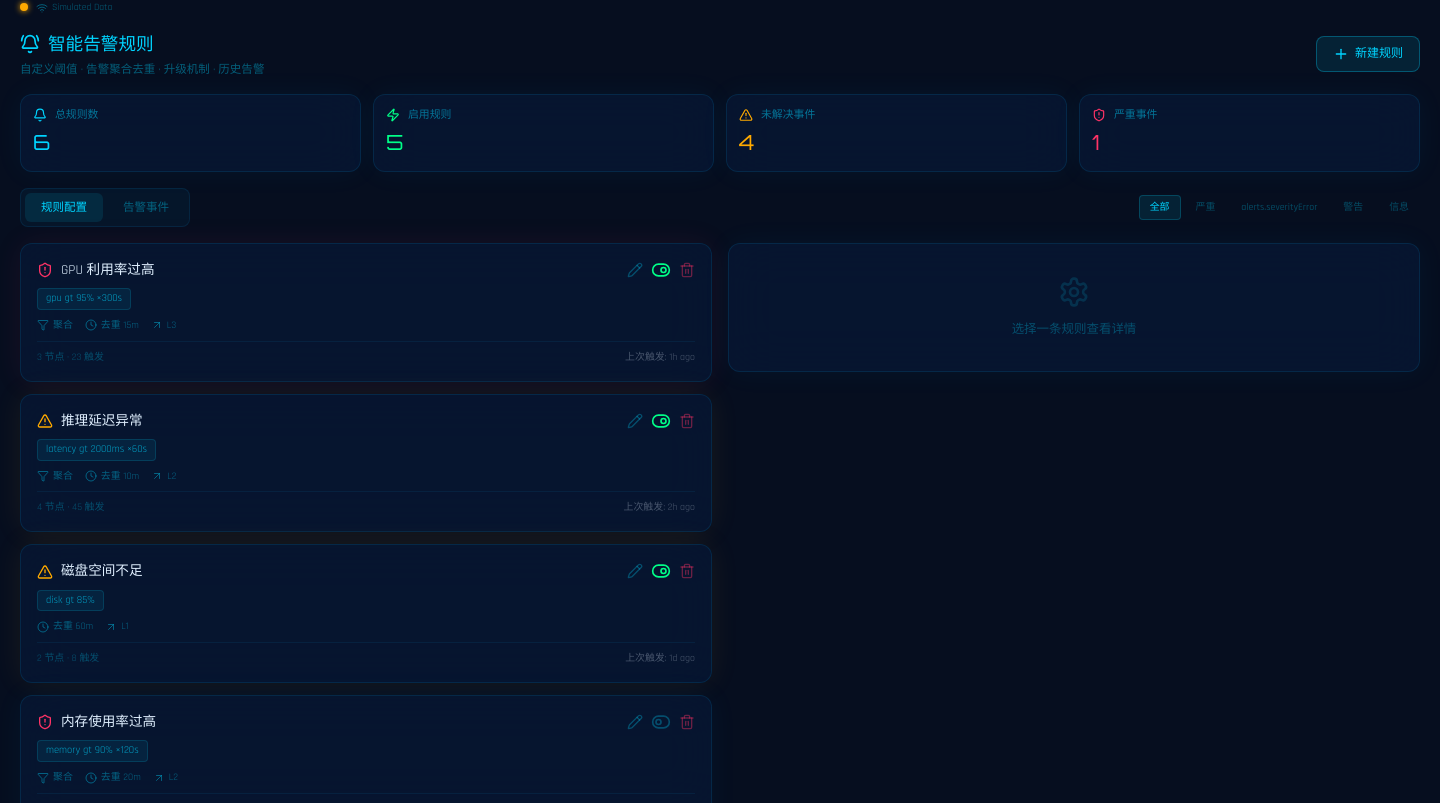
Test: AlertRulesPanel 扩展覆盖 › 编辑规则应打开编辑模式弹窗并回填名称
Step 1. Click the button with test id "edit-rule-rule-001" → (635, 270), box x1=627 y1=262 x2=643 y2=278
(page scrolled)
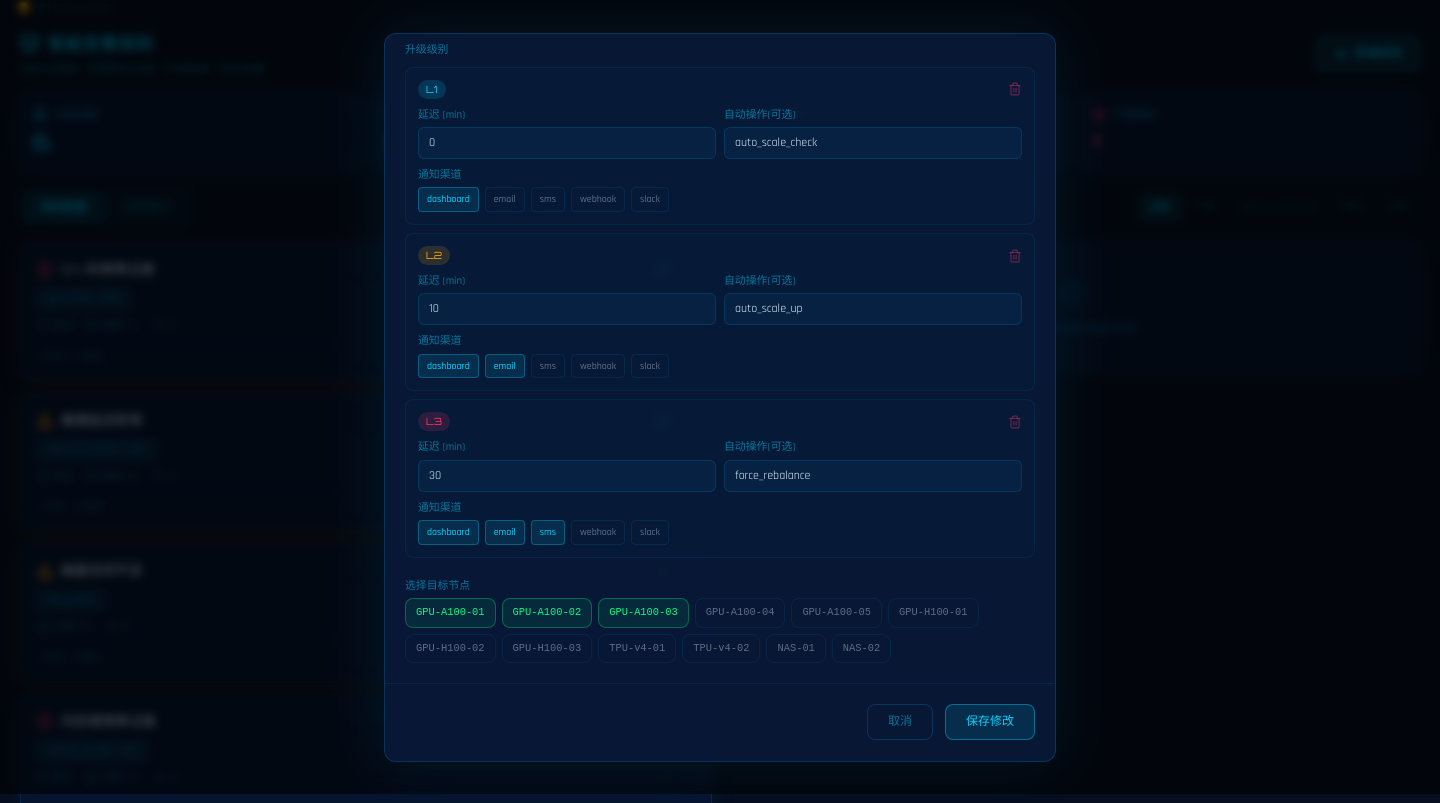
expect the button "保存修改" is shown: met, box x1=945 y1=704 x2=1035 y2=740
Step 2. Click the button with test id "cancel-btn" → (900, 722), box x1=867 y1=704 x2=933 y2=740
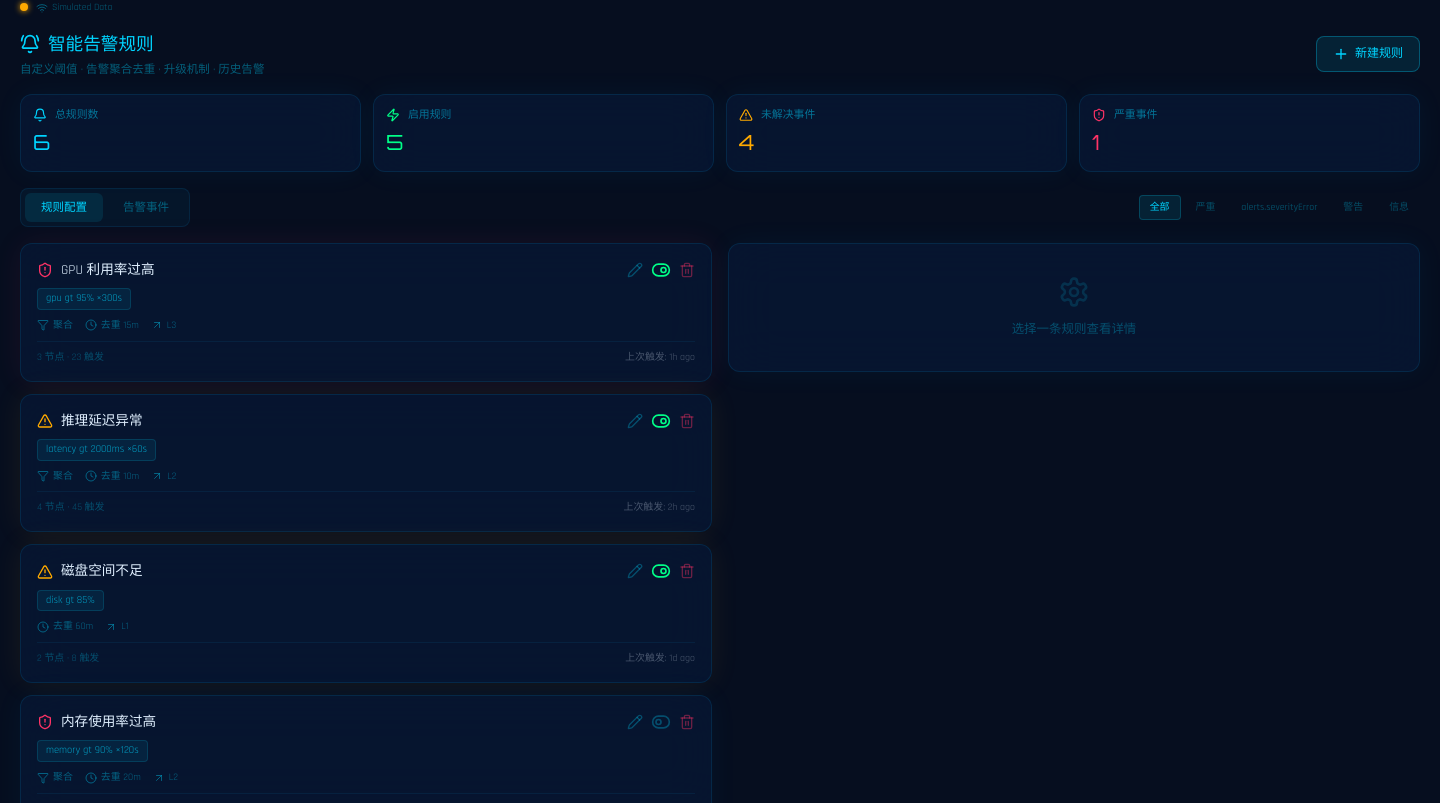
expect the element with test id "create-rule-modal" is gone: met
